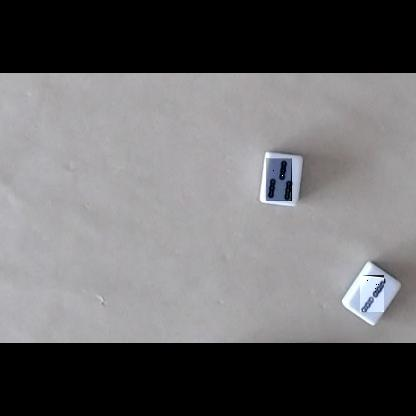2s: (360, 275, 384, 312)
3s: (266, 158, 292, 201)
